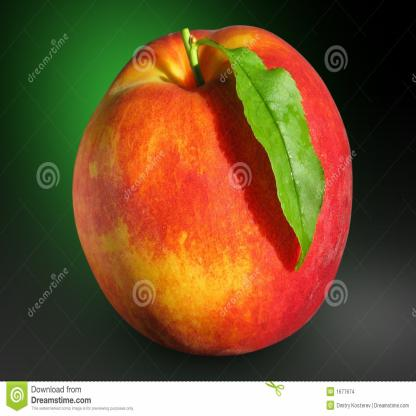peach leaf: (221, 44, 327, 284)
